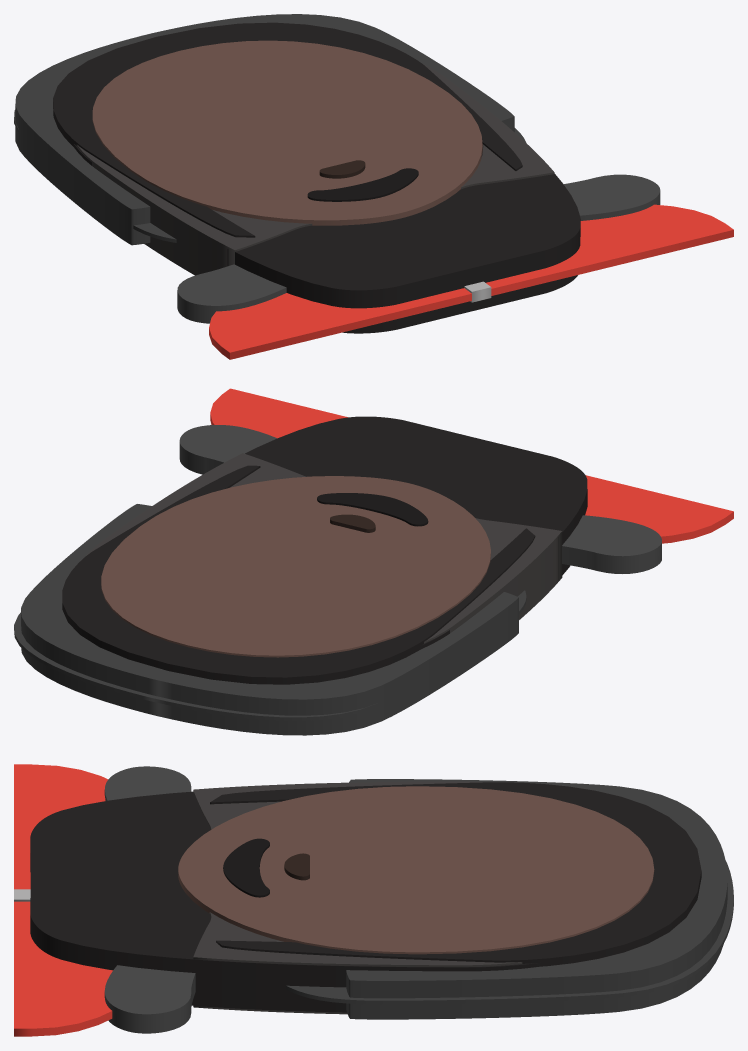
File: emoji_u1f482_1f3ff_200d_2640.glb
3 renders of one model, top to bottom at view 1: azimuth 30°, elevation 25°; view 2: azimuth 150°, elevation 25°; view 3: azimuth 270°, elevation 25°, orthographic. The views are drawn at different scales.
Visible parts, largest first — view 1: emoji_u1f482_1f3ff_200d_2640; view 2: emoji_u1f482_1f3ff_200d_2640; view 3: emoji_u1f482_1f3ff_200d_2640.
Part boxes in pixels (x1,y1,x2,y2): emoji_u1f482_1f3ff_200d_2640: (14, 14, 733, 359); emoji_u1f482_1f3ff_200d_2640: (14, 388, 733, 735); emoji_u1f482_1f3ff_200d_2640: (14, 764, 733, 1036).
Size of the model in its own units: 0.0293 by 0.0034 by 0.0338.
